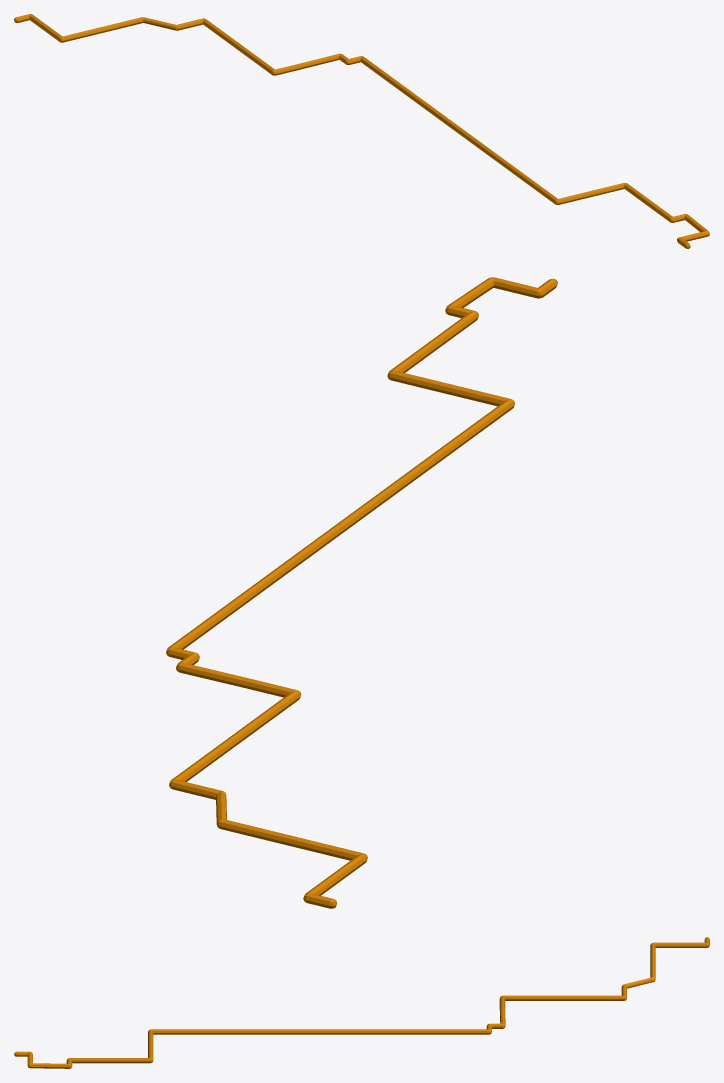
3 renders of one model, top to bottom at view 1: azimuth 30°, elevation 25°; view 2: azimuth 150°, elevation 25°; view 3: azimuth 270°, elevation 25°, orthographic. The views are drawn at different scales.
Bounding box in the file's own units: 1127 × 20 × 2569.
